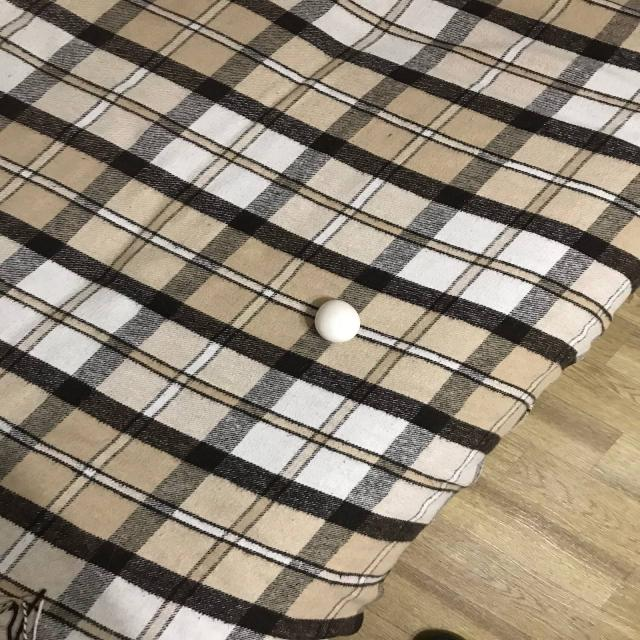egg: (314, 297, 362, 343)
